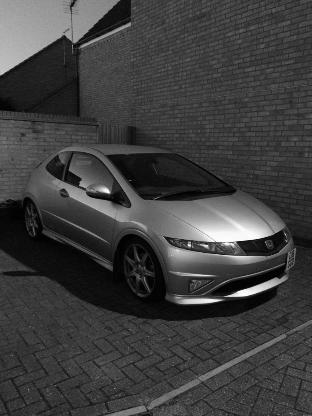license plate: (282, 247, 300, 274)
